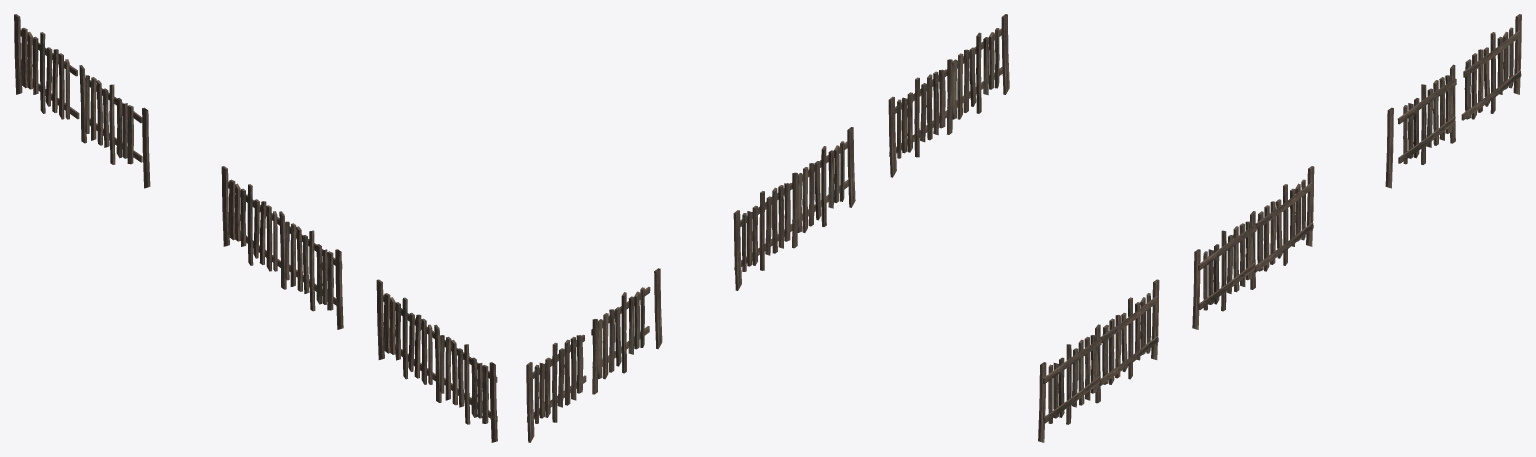
The model's file is tiable fence.fbx.
3 renders of one model, left to right at view 1: azimuth 30°, elevation 25°; view 2: azimuth 150°, elevation 25°; view 3: azimuth 330°, elevation 25°, orthographic.
Parts seen in each view (by area): view 1: Cube.005, Cube.003, Cube.009, Cube.006, Cube.001, Cube.004, Cube.008, Cube.002, Cube.007; view 2: Cube.005, Cube.003, Cube.009, Cube.006, Cube.001, Cube.004, Cube.007, Cube.008, Cube.002; view 3: Cube.009, Cube.003, Cube.005, Cube.004, Cube.001, Cube.006, Cube.007, Cube.002, Cube.008.
Boxes of the visible parts, x1=… form: Cube.005: x1=14, y1=14, x2=79, y2=119; Cube.003: x1=376, y1=279, x2=440, y2=384; Cube.009: x1=221, y1=166, x2=285, y2=271; Cube.006: x1=79, y1=65, x2=142, y2=164; Cube.001: x1=279, y1=211, x2=342, y2=311; Cube.004: x1=434, y1=324, x2=497, y2=424; Cube.008: x1=489, y1=362, x2=497, y2=442; Cube.002: x1=335, y1=249, x2=343, y2=329; Cube.007: x1=142, y1=107, x2=150, y2=188; Cube.005: x1=526, y1=334, x2=586, y2=442; Cube.003: x1=888, y1=69, x2=947, y2=177; Cube.009: x1=733, y1=183, x2=792, y2=290; Cube.006: x1=591, y1=286, x2=650, y2=394; Cube.001: x1=792, y1=141, x2=848, y2=248; Cube.004: x1=946, y1=28, x2=1002, y2=134; Cube.007: x1=654, y1=268, x2=662, y2=349; Cube.008: x1=1001, y1=14, x2=1009, y2=94; Cube.002: x1=847, y1=127, x2=855, y2=207; Cube.009: x1=1254, y1=166, x2=1314, y2=272; Cube.003: x1=1099, y1=279, x2=1159, y2=385; Cube.005: x1=1461, y1=14, x2=1521, y2=120; Cube.004: x1=1043, y1=324, x2=1101, y2=424; Cube.001: x1=1198, y1=211, x2=1256, y2=311; Cube.006: x1=1397, y1=64, x2=1456, y2=164; Cube.007: x1=1385, y1=107, x2=1393, y2=188; Cube.002: x1=1192, y1=249, x2=1200, y2=329; Cube.008: x1=1038, y1=362, x2=1046, y2=442.
Bounding box in the file's own units: 32.67 × 463 × 5042.
1 material, 1 textured.
